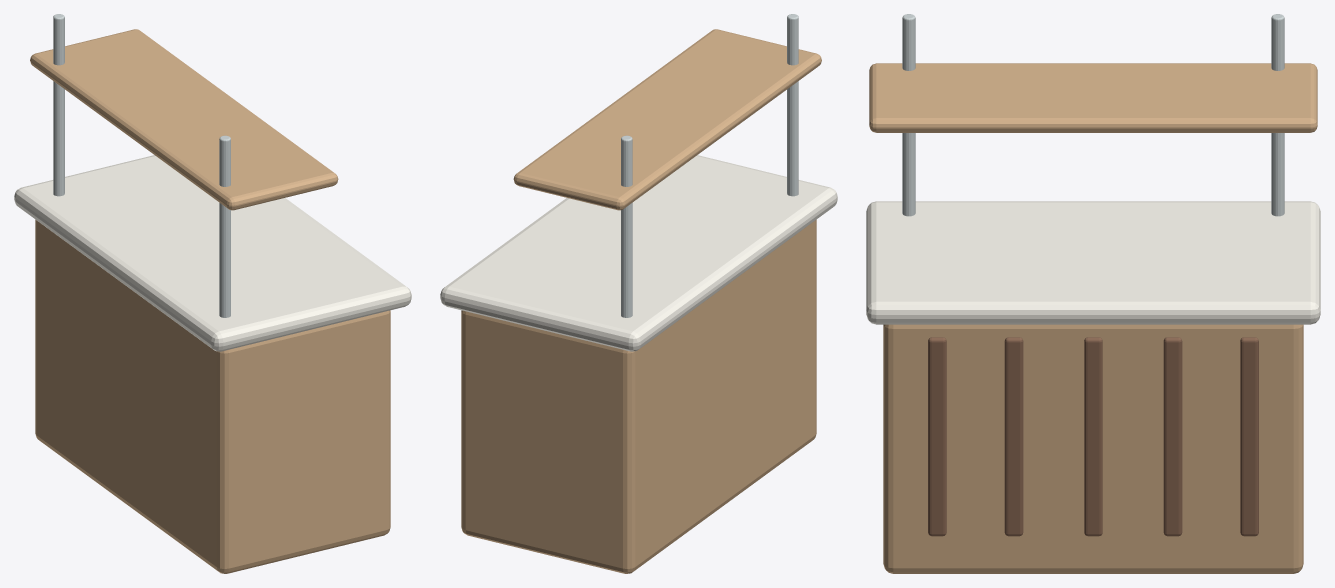
Rendered from PickupCounter.fbx.
3 renders of one model, left to right at view 1: azimuth 30°, elevation 25°; view 2: azimuth 150°, elevation 25°; view 3: azimuth 270°, elevation 25°, orthographic. The views are drawn at different scales.
Parts seen in each view (by area): view 1: Oak counter body, Cream quartz worktop, Open pickup shelf, Pass shelf post.001, Pass shelf post; view 2: Oak counter body, Cream quartz worktop, Open pickup shelf, Pass shelf post, Pass shelf post.001; view 3: Oak counter body, Cream quartz worktop, Open pickup shelf, Front fluted oak.001, Front fluted oak.003, Front fluted oak, Front fluted oak.004, Front fluted oak.002, Pass shelf post, Pass shelf post.001.
Boxes of the visible parts, box(x1,y1,x2,y2) form: Oak counter body: box(35, 219, 390, 573); Cream quartz worktop: box(14, 155, 411, 351); Open pickup shelf: box(30, 29, 338, 210); Pass shelf post.001: box(53, 14, 64, 196); Pass shelf post: box(219, 135, 230, 317); Oak counter body: box(461, 219, 816, 573); Cream quartz worktop: box(440, 155, 837, 351); Open pickup shelf: box(513, 29, 821, 210); Pass shelf post: box(787, 14, 798, 196); Pass shelf post.001: box(621, 135, 632, 317); Oak counter body: box(883, 324, 1303, 573); Cream quartz worktop: box(866, 201, 1320, 324); Open pickup shelf: box(869, 63, 1317, 132); Front fluted oak.001: box(1004, 337, 1023, 536); Front fluted oak.003: box(1163, 337, 1182, 536); Front fluted oak: box(928, 337, 946, 536); Front fluted oak.004: box(1240, 337, 1258, 536); Front fluted oak.002: box(1084, 337, 1102, 536); Pass shelf post: box(902, 14, 915, 216); Pass shelf post.001: box(1271, 14, 1284, 216).
Bounding box in the file's own units: 90 × 185 × 160.
